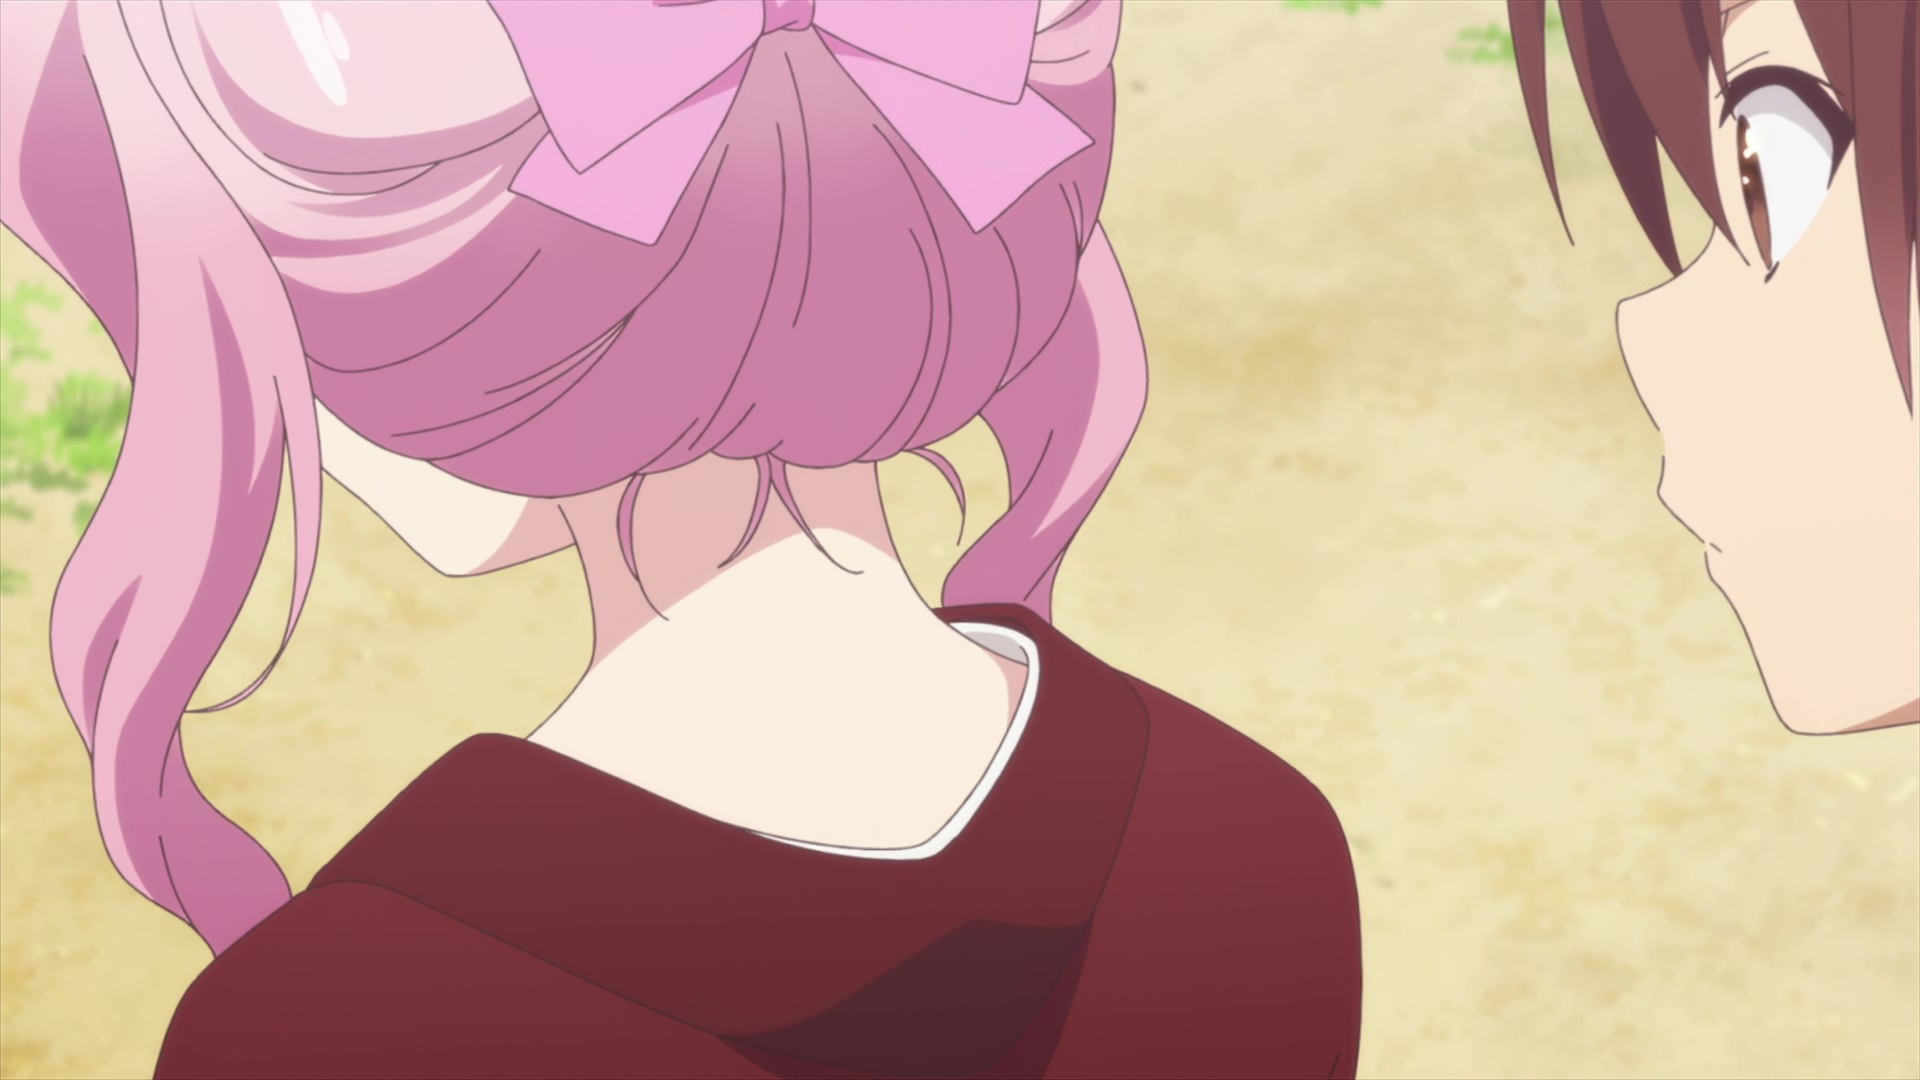枣: (1509, 1, 1920, 737)
莲: (1, 1, 1364, 1080)
